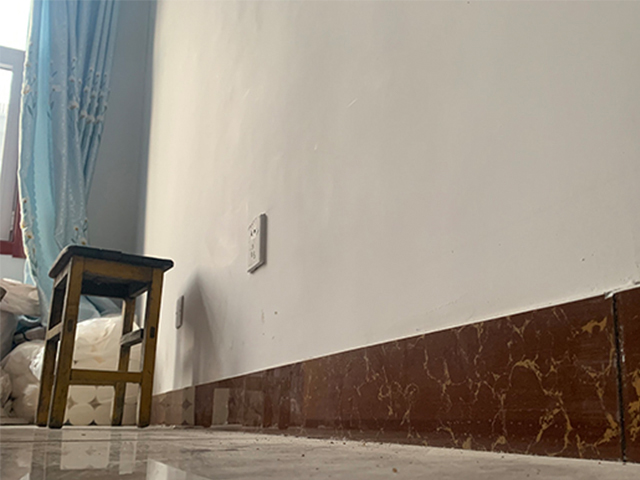curtain: (18, 2, 114, 319)
stool: (34, 244, 175, 429)
